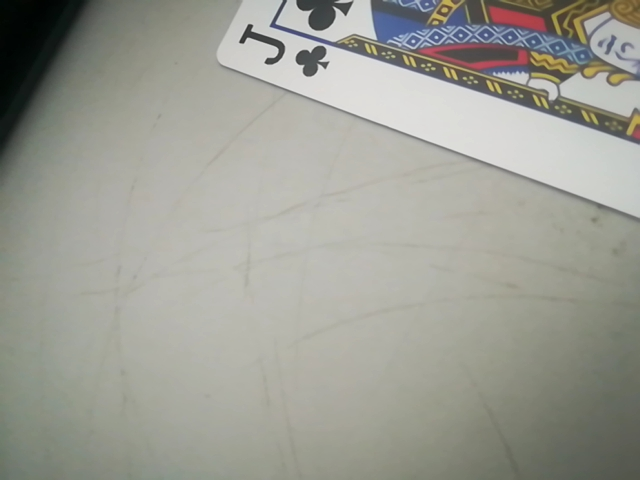mh j: (209, 1, 637, 240)
